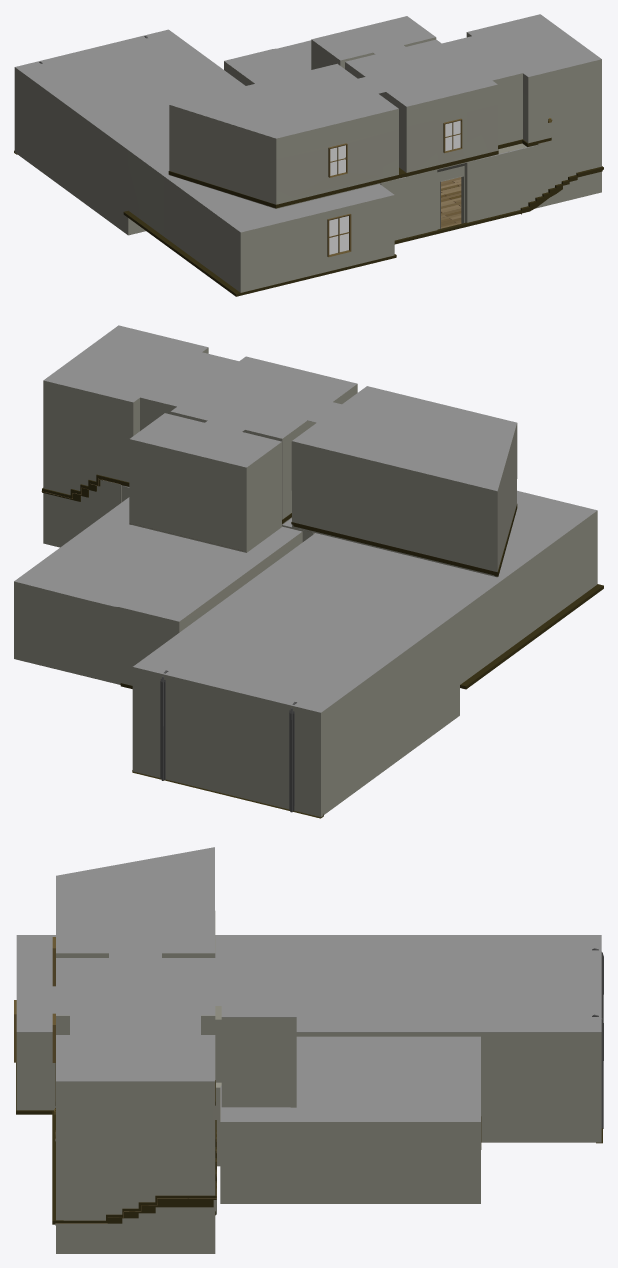
Rendered from casa (1).fbx.
The picture shows the model from 3 angles, top to bottom: view 1: azimuth 30°, elevation 25°; view 2: azimuth 150°, elevation 25°; view 3: azimuth 270°, elevation 25°; orthographic projection. The views are drawn at different scales.
Visible parts, largest first — view 1: Plane.027; view 2: Plane.027; view 3: Plane.027.
Part boxes in pixels (<box>): Plane.027: <box>14,14,603,296</box>; Plane.027: <box>14,325,603,818</box>; Plane.027: <box>14,847,603,1253</box>.
Bounding box in the file's own units: 2174 × 853 × 2245.
10 materials, 1 textured.
